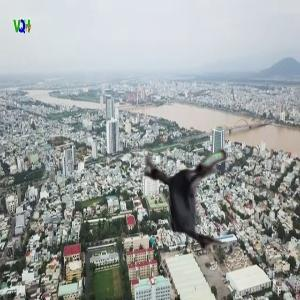drone: (128, 134, 262, 268)
